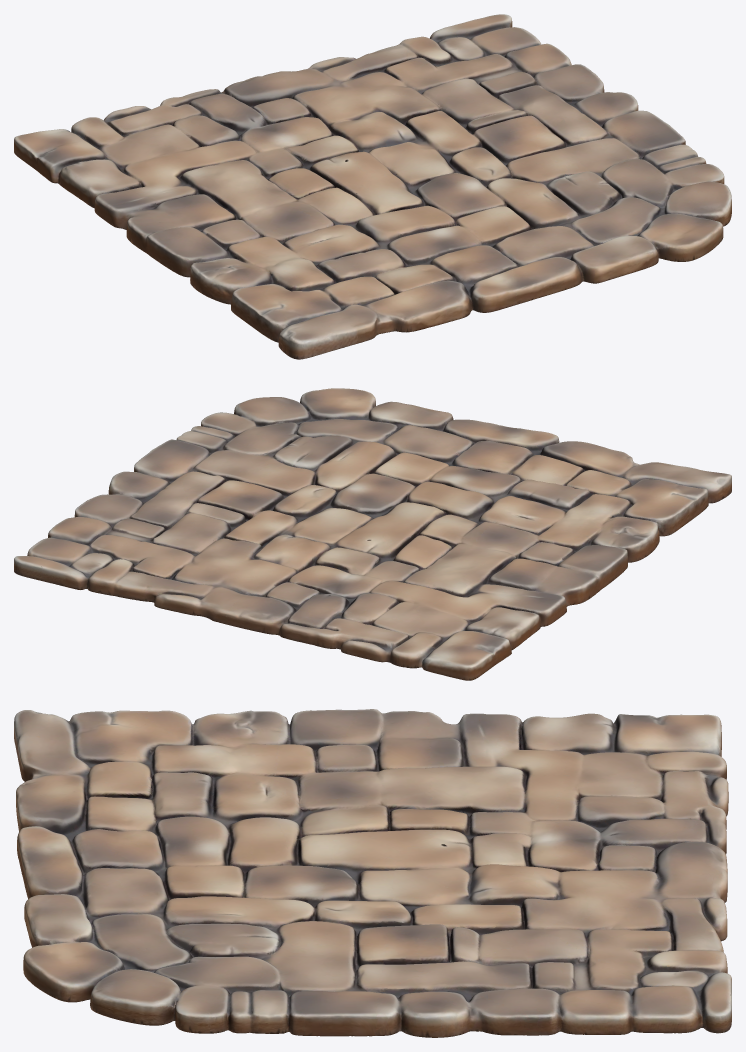
Rendered from floor.glb.
The picture shows the model from 3 angles, top to bottom: view 1: azimuth 30°, elevation 25°; view 2: azimuth 150°, elevation 25°; view 3: azimuth 270°, elevation 25°; orthographic projection. The views are drawn at different scales.
Bounding box in the file's own units: 2 × 0.0745 × 1.97.
Materials: 1 (1 with a texture image).
